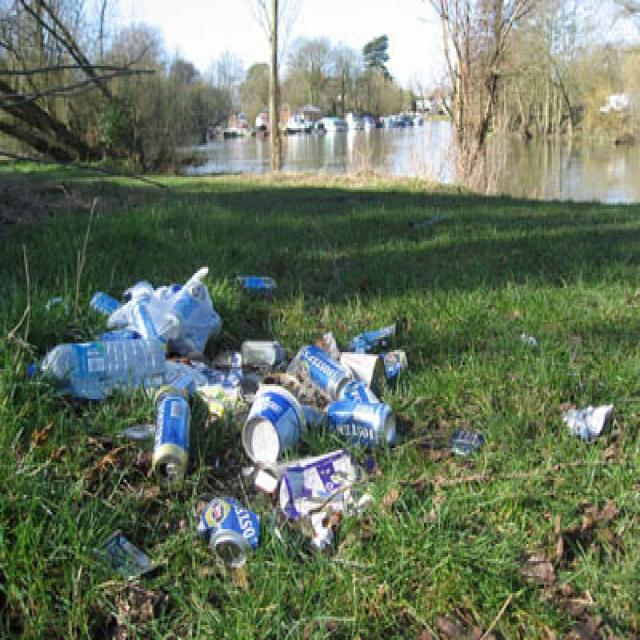garbage: (236, 307, 409, 542), (29, 264, 223, 400), (152, 390, 265, 573)
